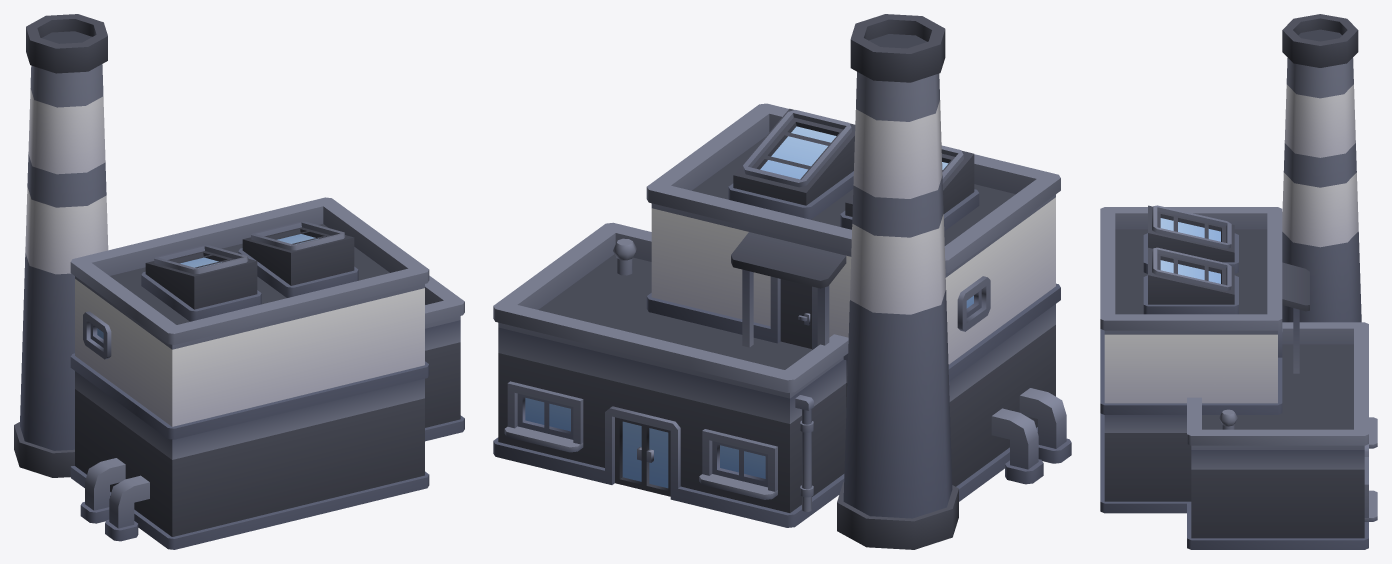
Rendered from building-f_lev1.glb.
The picture shows the model from 3 angles, left to right: view 1: azimuth 30°, elevation 25°; view 2: azimuth 150°, elevation 25°; view 3: azimuth 270°, elevation 25°; orthographic projection. The views are drawn at different scales.
Parts seen in each view (by area): view 1: building-f_lev1; view 2: building-f_lev1; view 3: building-f_lev1.
Part boxes in pixels (x1,y1,x2,y2): building-f_lev1: [14, 14, 464, 549]; building-f_lev1: [493, 14, 1071, 549]; building-f_lev1: [1100, 14, 1377, 549].
Size of the model in its own units: 1.79 by 1.92 by 1.28.
1 material, 1 textured.
